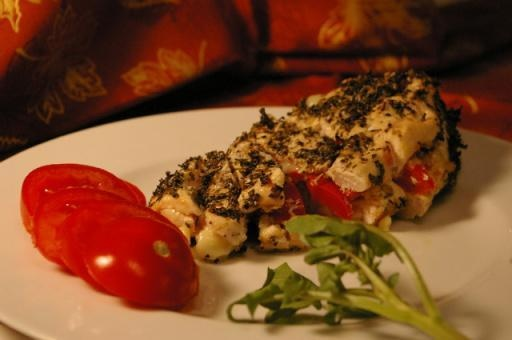background: (15, 36, 375, 180)
